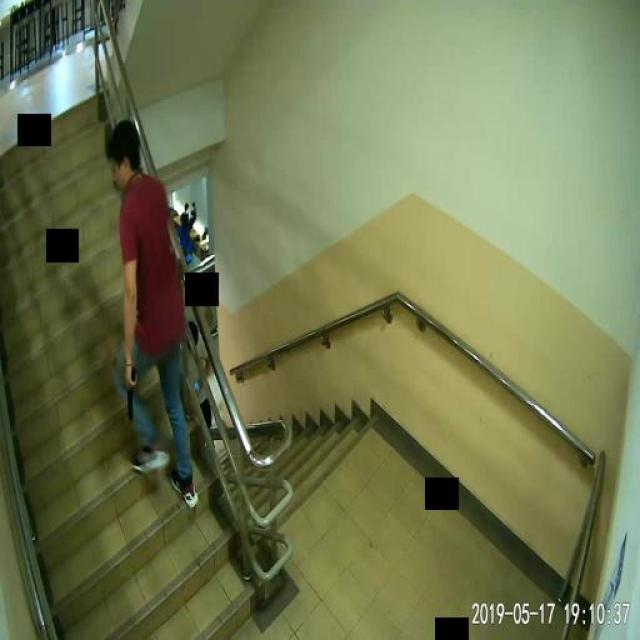gun: (124, 364, 135, 418)
